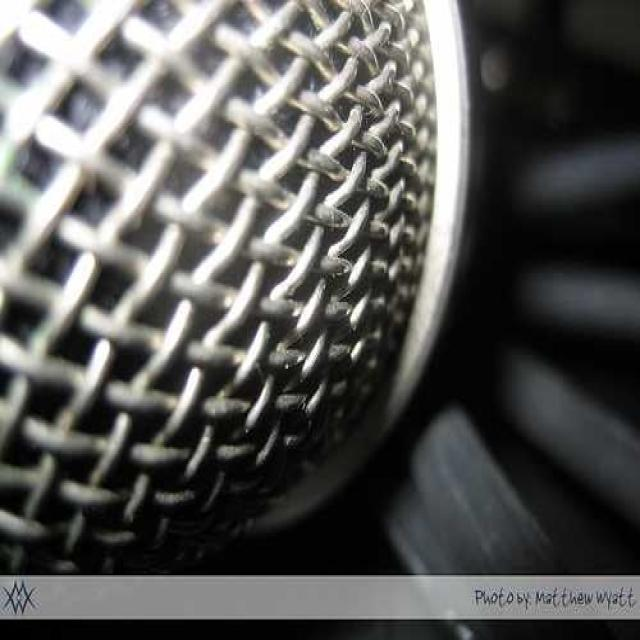microphone: (0, 0, 480, 558)
